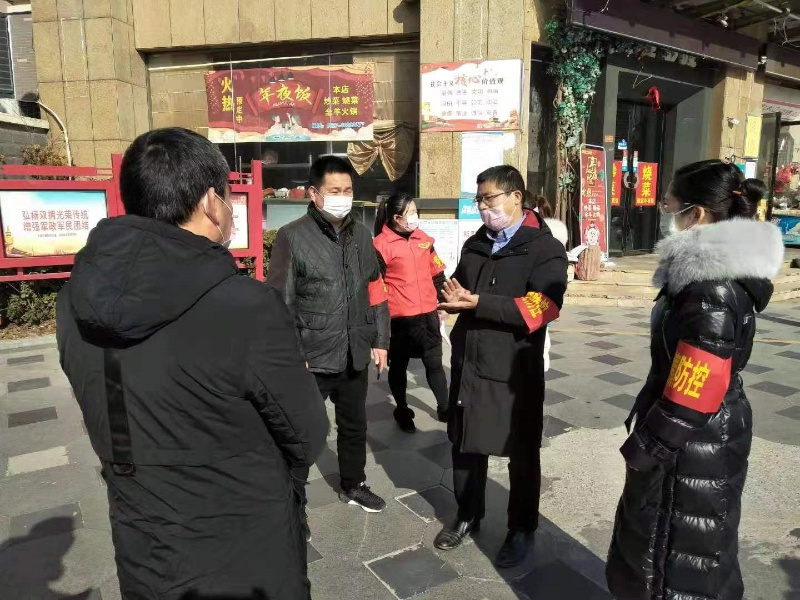ManaoArotava: (646, 152, 712, 255), (470, 158, 541, 233), (306, 148, 365, 230), (379, 185, 427, 235)
